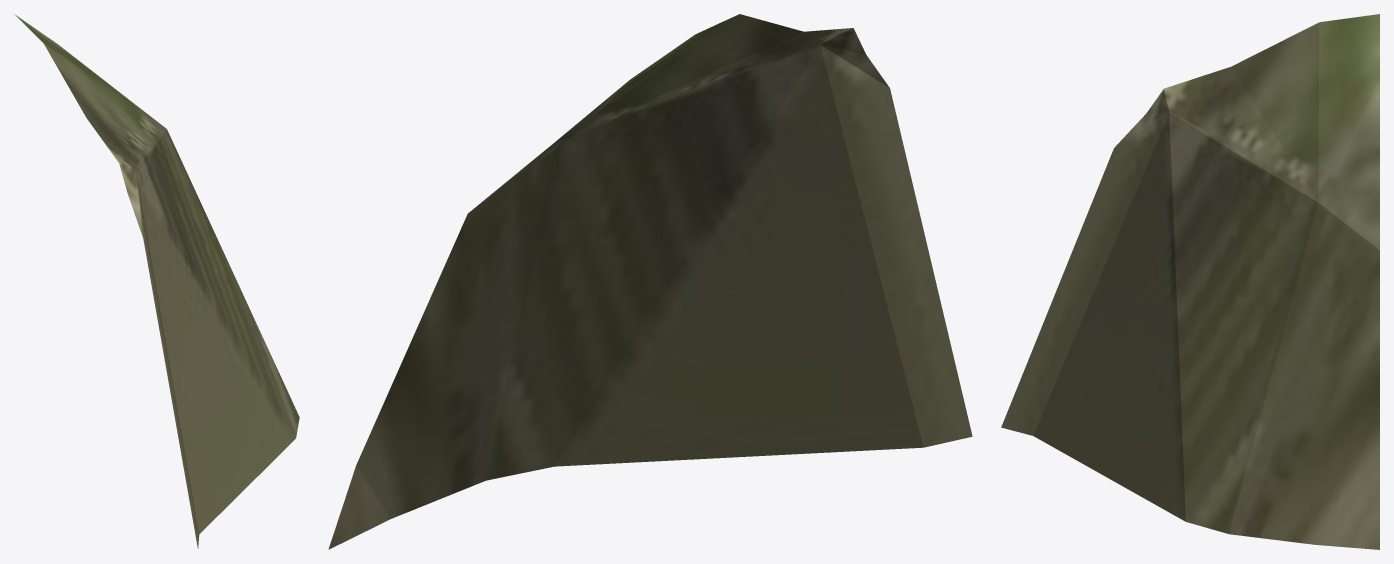
3 views of the same model, side by side, from view 1: azimuth 30°, elevation 25°; view 2: azimuth 150°, elevation 25°; view 3: azimuth 270°, elevation 25° (orthographic). The views are drawn at different scales.
Size of the model in its own units: 0.5198 by 0.8188 by 0.6796.
1 material, 1 textured.
